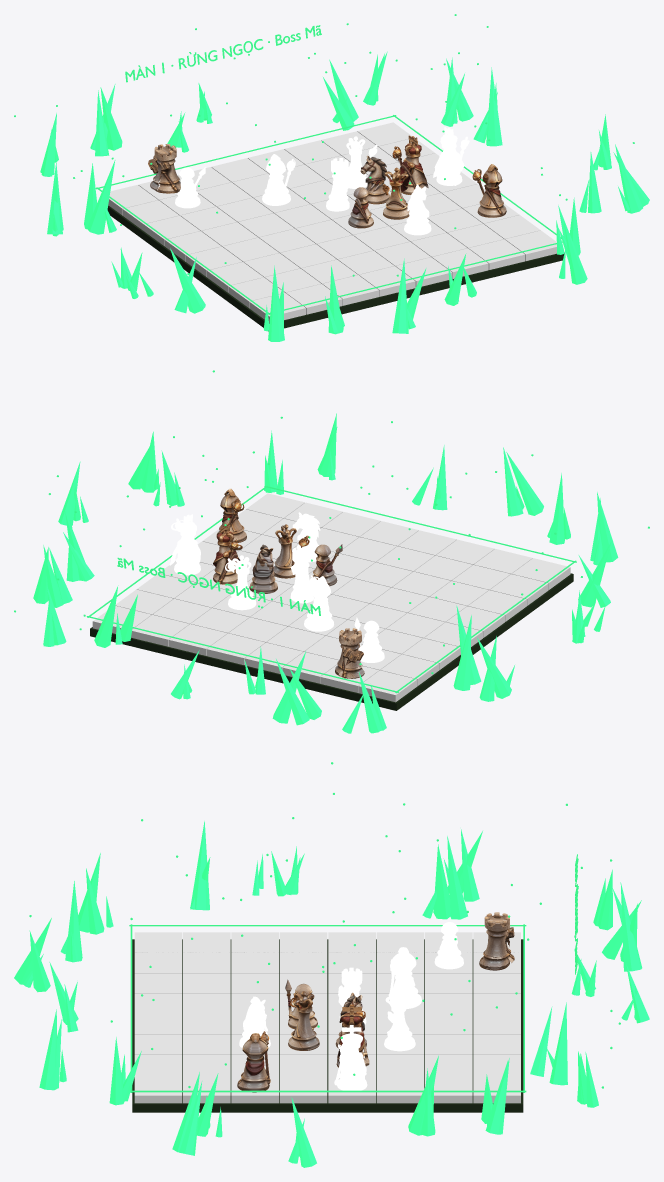
The model's file is 9_BanCo_CacMan.glb.
3 views of the same model, one above another, from view 1: azimuth 30°, elevation 25°; view 2: azimuth 150°, elevation 25°; view 3: azimuth 270°, elevation 25° (orthographic). The views are drawn at different scales.
Parts seen in each view (by area): view 1: BanCo_O_Man1_RungNgoc, BanCo_De_Man1_RungNgoc, Vua_KeDich, Vua_DongDoi, Tuong_KeDich, Xe_DongDoi, Ten_Man1_RungNgoc, Tuong_DongDoi, Xe_KeDich, Ma_KeDich, Hau_DongDoi, Ma_DongDoi (+17 smaller); view 2: BanCo_O_Man1_RungNgoc, BanCo_De_Man1_RungNgoc, Vua_KeDich, Tuong_KeDich, Vua_DongDoi, Xe_KeDich, Ten_Man1_RungNgoc, Hau_KeDich, Ma_DongDoi, Xe_DongDoi, Hau_DongDoi, Tot_KeDich (+15 smaller); view 3: BanCo_O_Man1_RungNgoc, BanCo_De_Man1_RungNgoc, Vua_KeDich, Xe_DongDoi, Tuong_DongDoi, Tuong_KeDich, Hau_KeDich, Hau_DongDoi, Vien2_Man1_RungNgoc, Tot_KeDich, Ngoc7_0, Ngoc13_2 (+16 smaller).
Boxes of the visible parts, x1=… form: BanCo_O_Man1_RungNgoc: x1=108, y1=122, x2=556, y2=322; BanCo_De_Man1_RungNgoc: x1=107, y1=205, x2=564, y2=331; Vua_KeDich: x1=433, y1=127, x2=469, y2=185; Vua_DongDoi: x1=392, y1=135, x2=428, y2=194; Tuong_KeDich: x1=262, y1=154, x2=295, y2=205; Xe_DongDoi: x1=150, y1=144, x2=180, y2=193; Ten_Man1_RungNgoc: x1=125, y1=25, x2=321, y2=82; Tuong_DongDoi: x1=477, y1=164, x2=506, y2=217; Xe_KeDich: x1=326, y1=158, x2=353, y2=211; Ma_KeDich: x1=404, y1=184, x2=431, y2=235; Hau_DongDoi: x1=382, y1=167, x2=409, y2=219; Ma_DongDoi: x1=360, y1=155, x2=389, y2=204; BanCo_O_Man1_RungNgoc: x1=92, y1=493, x2=570, y2=702; BanCo_De_Man1_RungNgoc: x1=90, y1=573, x2=573, y2=710; Vua_KeDich: x1=169, y1=514, x2=200, y2=575; Tuong_KeDich: x1=304, y1=575, x2=333, y2=631; Vua_DongDoi: x1=213, y1=523, x2=242, y2=584; Xe_KeDich: x1=290, y1=546, x2=313, y2=603; Ten_Man1_RungNgoc: x1=117, y1=557, x2=320, y2=615; Hau_KeDich: x1=225, y1=555, x2=256, y2=610; Ma_DongDoi: x1=249, y1=544, x2=277, y2=593; Xe_DongDoi: x1=335, y1=628, x2=364, y2=678; Hau_DongDoi: x1=273, y1=524, x2=309, y2=578; Tot_KeDich: x1=354, y1=617, x2=384, y2=662; BanCo_O_Man1_RungNgoc: x1=134, y1=932, x2=520, y2=1103; BanCo_De_Man1_RungNgoc: x1=132, y1=939, x2=523, y2=1112; Vua_KeDich: x1=334, y1=1025, x2=367, y2=1090; Xe_DongDoi: x1=479, y1=912, x2=514, y2=970; Tuong_DongDoi: x1=237, y1=1033, x2=270, y2=1092; Tuong_KeDich: x1=388, y1=947, x2=421, y2=1008; Hau_KeDich: x1=384, y1=991, x2=415, y2=1051; Hau_DongDoi: x1=288, y1=991, x2=319, y2=1050; Vien2_Man1_RungNgoc: x1=132, y1=1090, x2=526, y2=1092; Tot_KeDich: x1=434, y1=922, x2=463, y2=969; Ngoc7_0: x1=620, y1=882, x2=642, y2=971; Ngoc13_2: x1=190, y1=821, x2=209, y2=910.
Size of what is drawn, in the model's own units: 5.81 by 1.45 by 5.52.
Materials: 13 (1 with a texture image).
